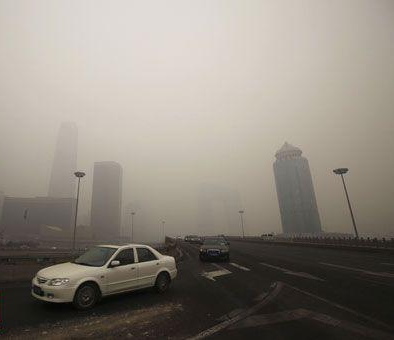car: (30, 244, 178, 310), (196, 236, 229, 260), (189, 233, 201, 244)
